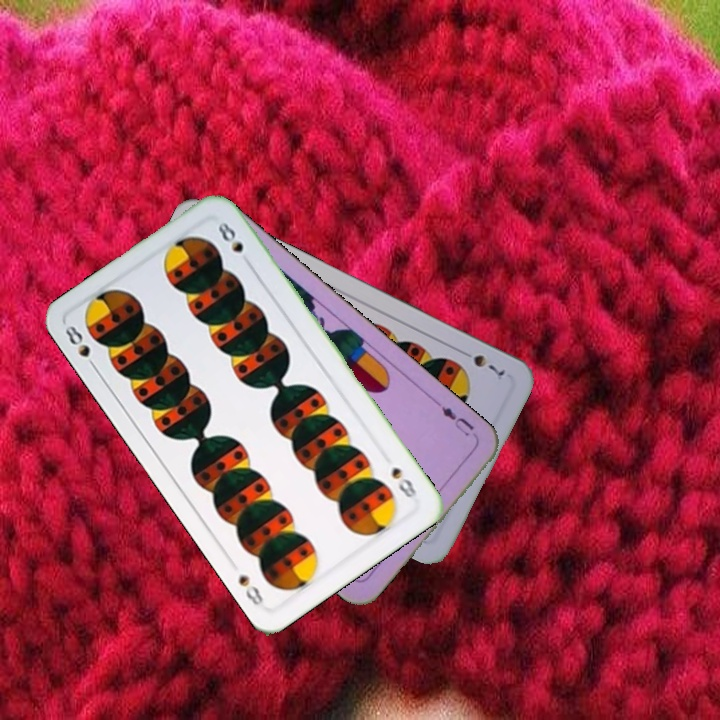EU: (437, 402, 481, 442)
S7: (456, 345, 507, 379)
S8: (61, 321, 101, 374), (387, 462, 420, 501)
